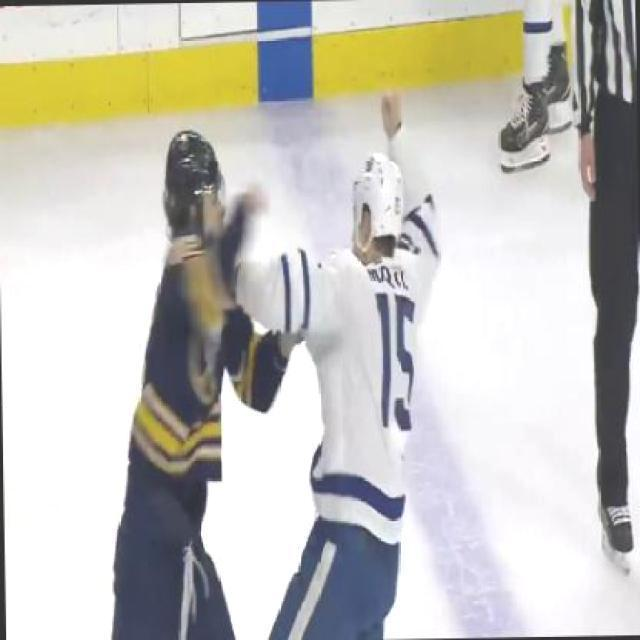fight: (123, 86, 448, 639)
